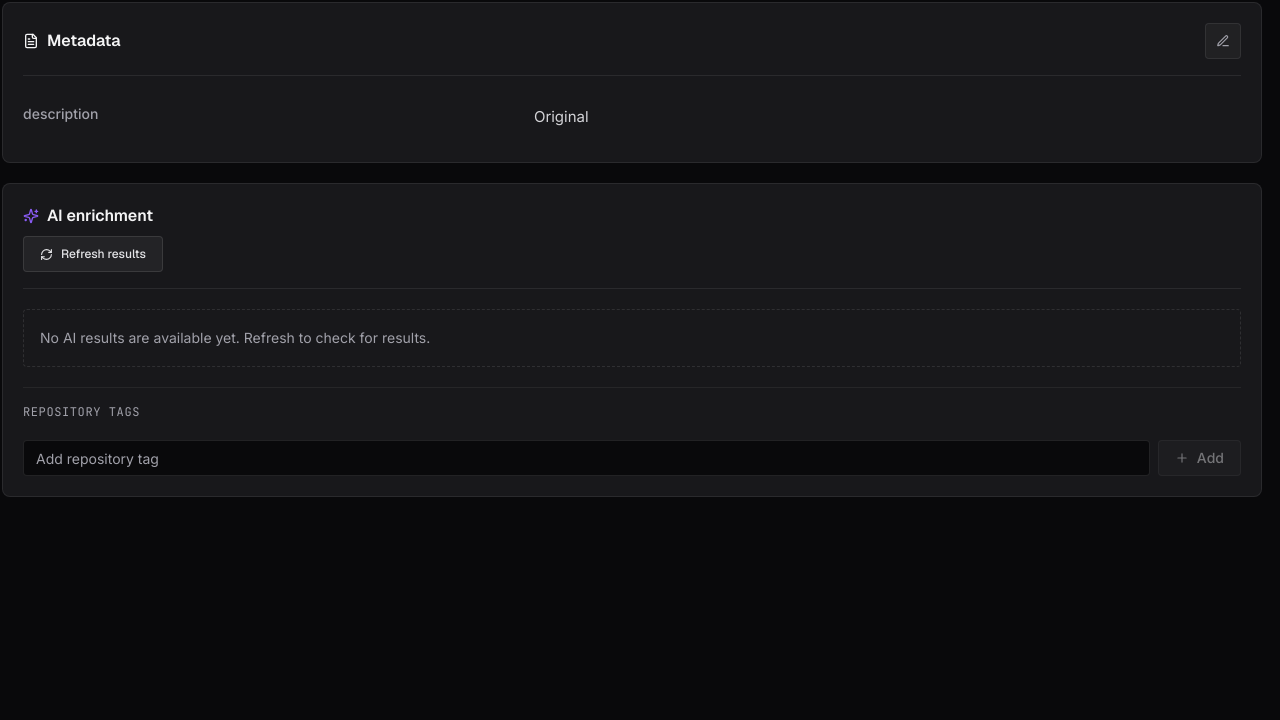
Test: a denied save preserves the draft when refreshed permissions remove editing access
Later steps or results of the test are not shown.
Click the button named "Edit metadata": click(1223, 41) [1205,23,1241,59]
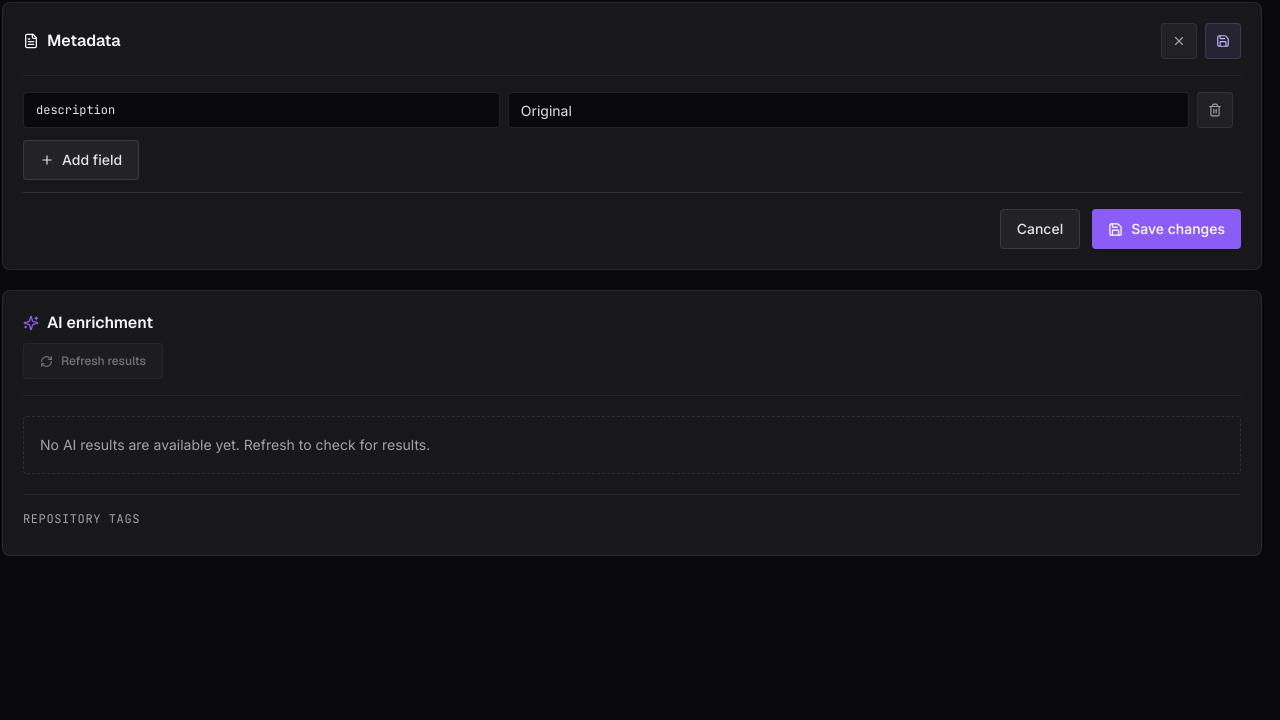
Replace the text in the field named "Metadata value" with "Kept draft": (848, 110) [508,92,1189,128]
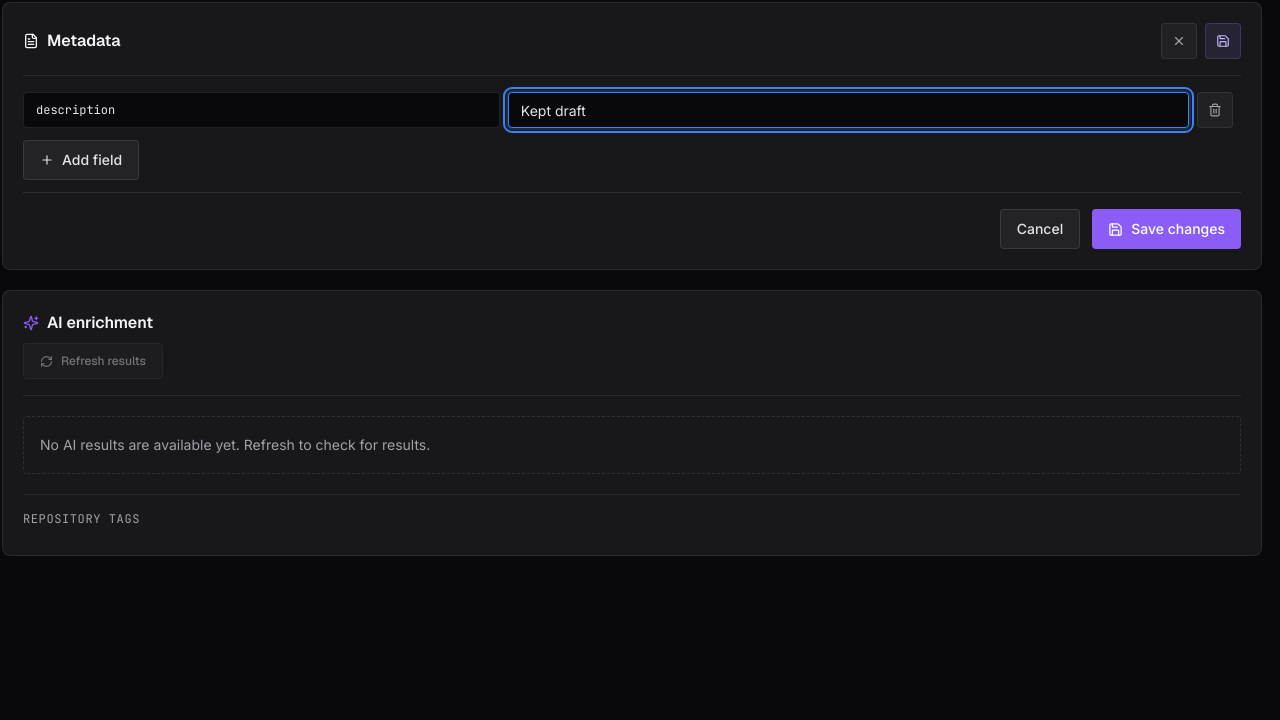
Click the button named "Save metadata": click(1223, 41) [1205,23,1241,59]
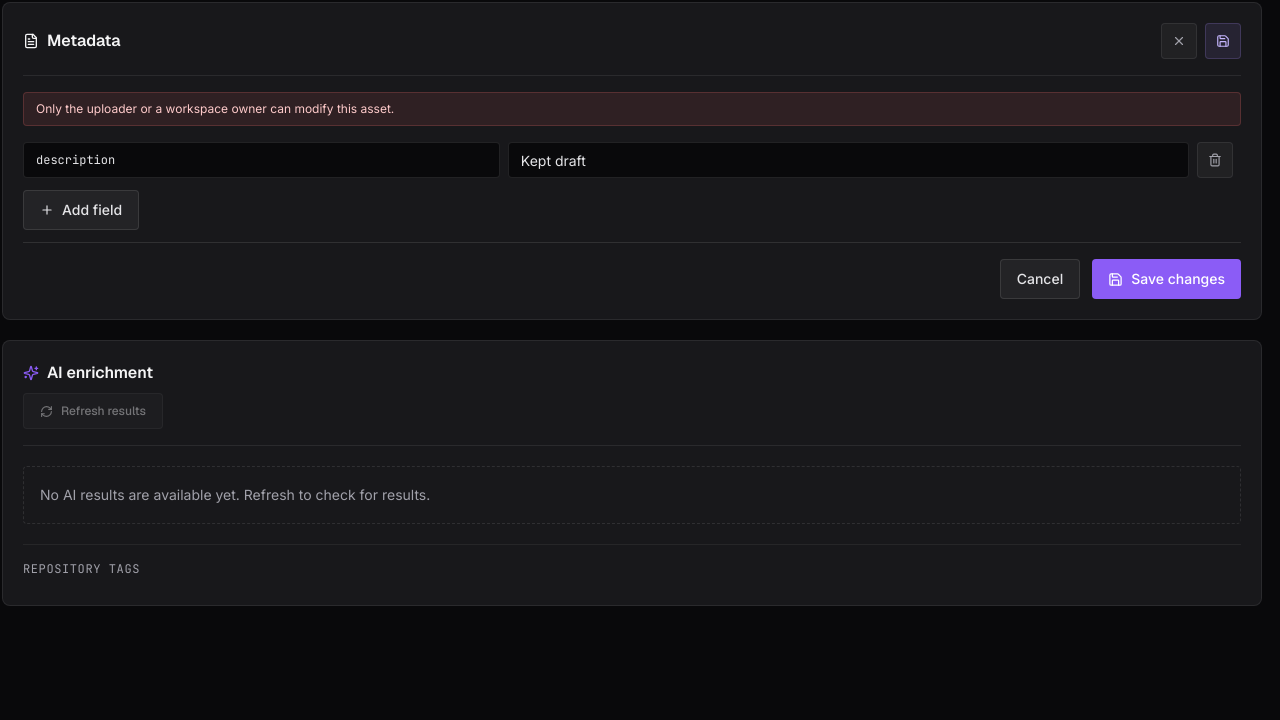
Expected: the message shows "Only the uploader", [36,101,394,116]
